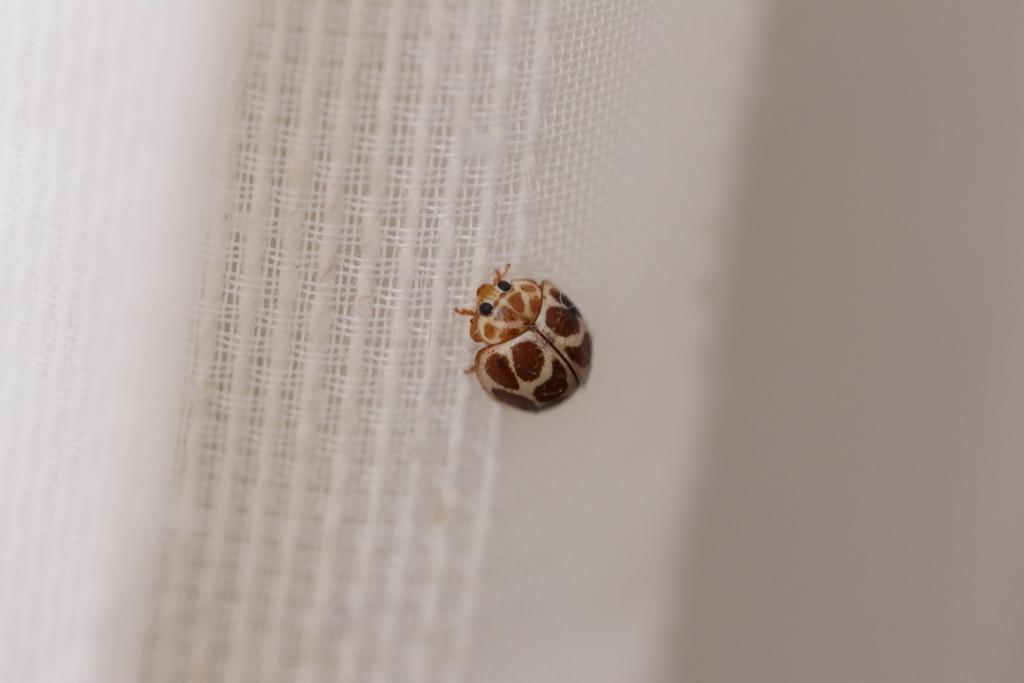ladybug: (455, 257, 599, 419)
